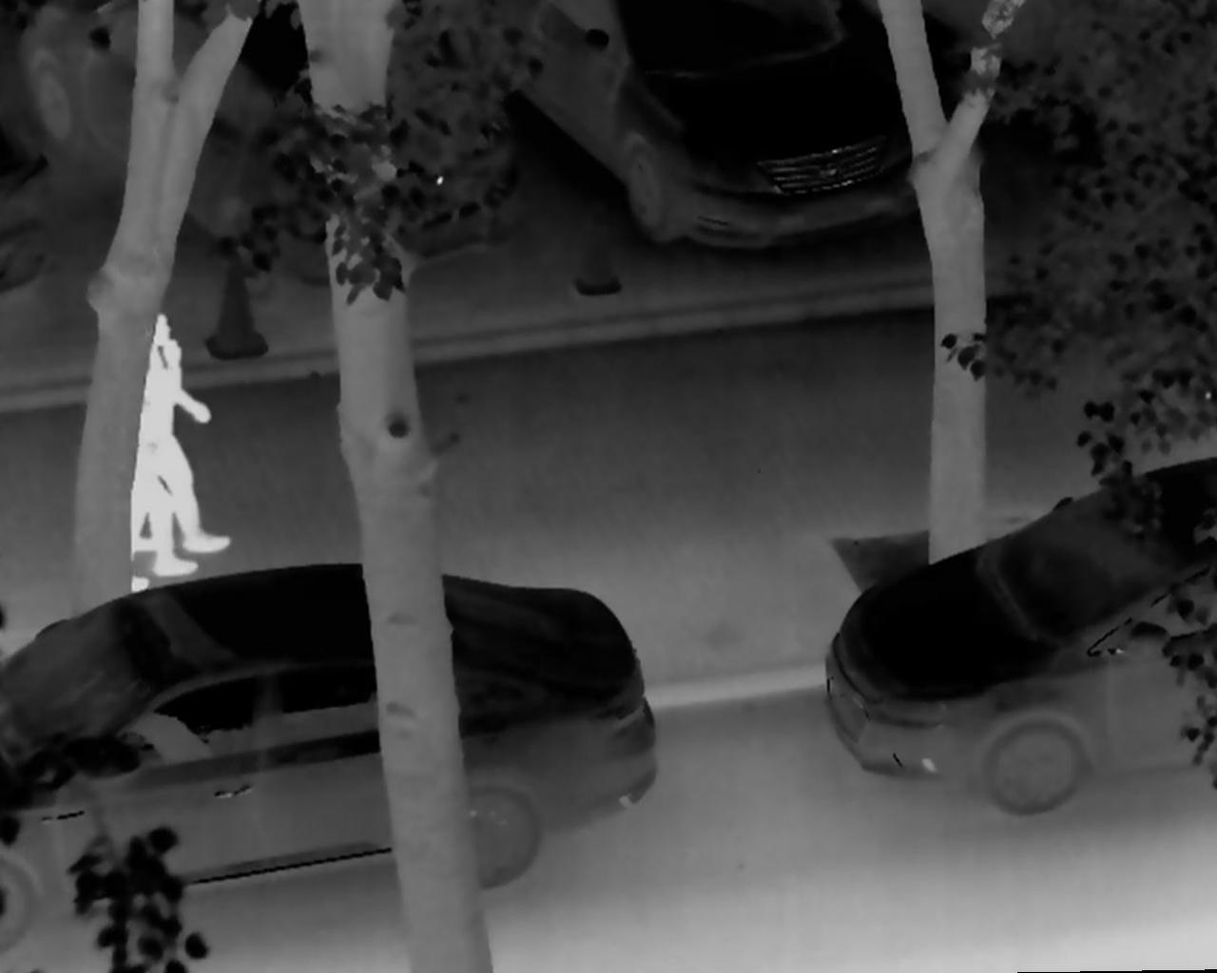person: (107, 301, 228, 559), (120, 336, 196, 598)
